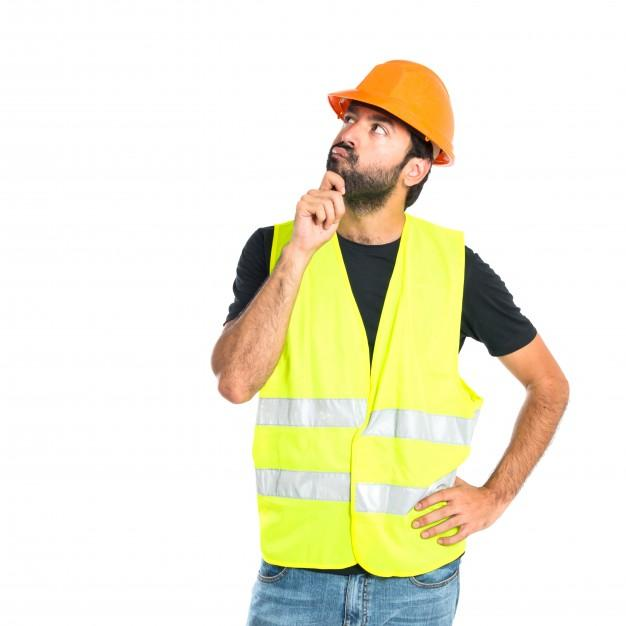hat: (313, 39, 493, 173)
vest: (234, 171, 579, 613)
